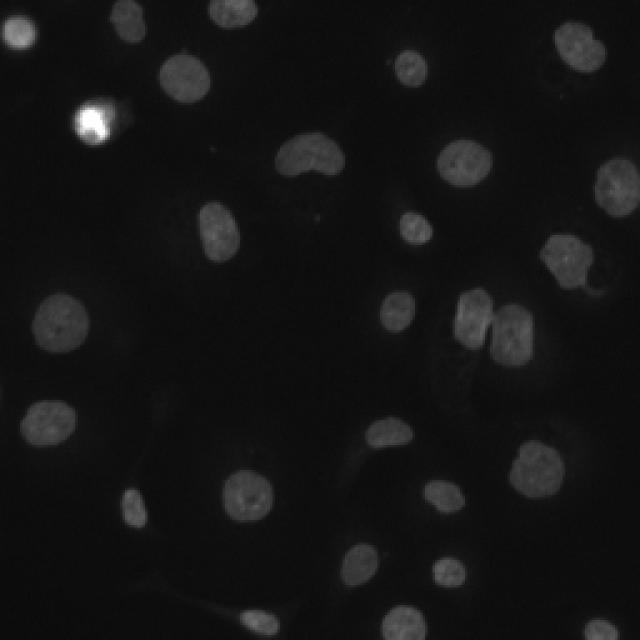cell: (0, 0, 640, 640), (451, 288, 532, 369), (540, 232, 606, 298), (31, 290, 91, 356), (179, 601, 278, 640), (275, 130, 346, 179), (509, 439, 566, 499), (158, 49, 212, 107), (72, 99, 132, 149), (221, 471, 278, 523), (20, 400, 80, 449), (196, 200, 241, 264), (594, 158, 640, 219), (74, 98, 131, 147), (438, 139, 492, 189), (561, 22, 605, 72), (361, 415, 415, 452), (340, 541, 381, 589), (381, 602, 429, 640), (146, 390, 174, 454), (380, 290, 418, 334), (110, 0, 148, 43), (422, 480, 466, 516), (120, 480, 149, 530), (210, 0, 258, 29), (391, 50, 426, 88), (2, 16, 38, 51), (400, 210, 432, 248), (431, 561, 470, 589), (581, 618, 621, 640)
